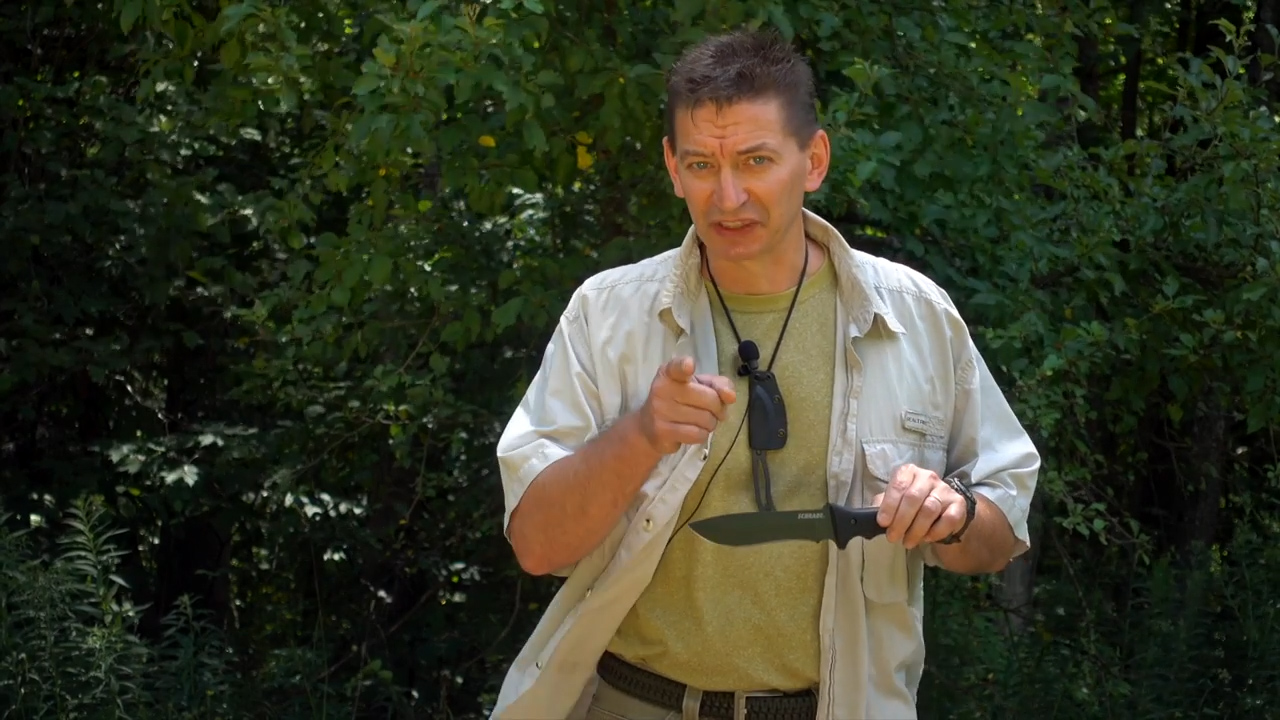knife: (681, 460, 936, 556)
